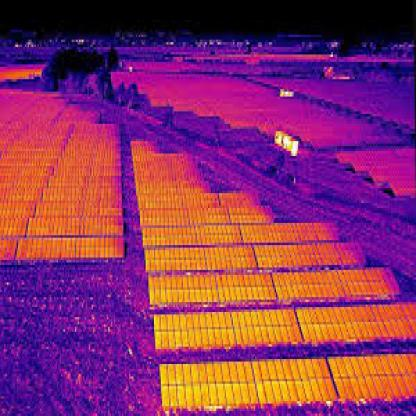Defects: (276, 126, 299, 158)
